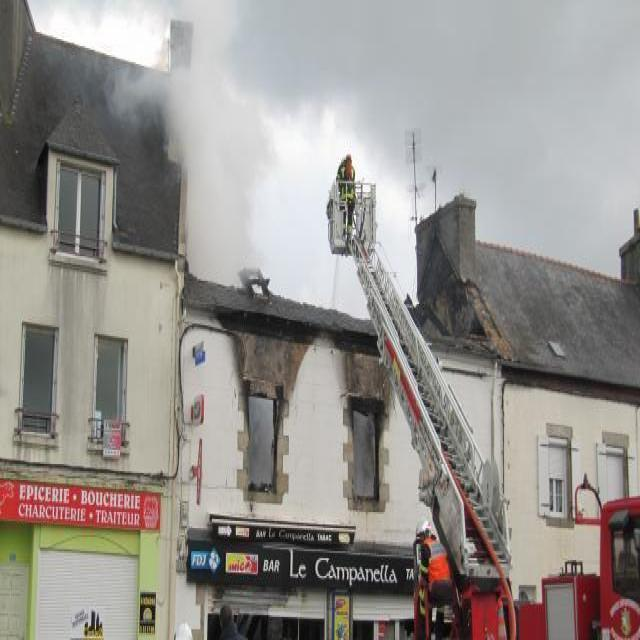Smoke: (192, 78, 254, 280)
